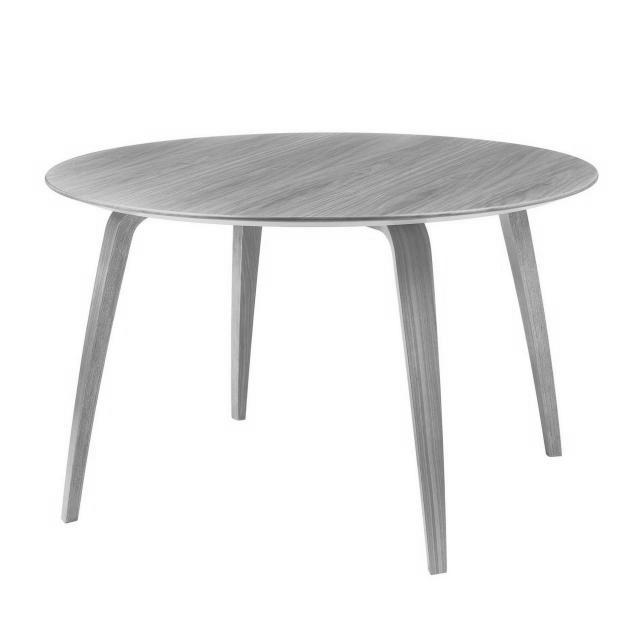table: (46, 123, 602, 574)
